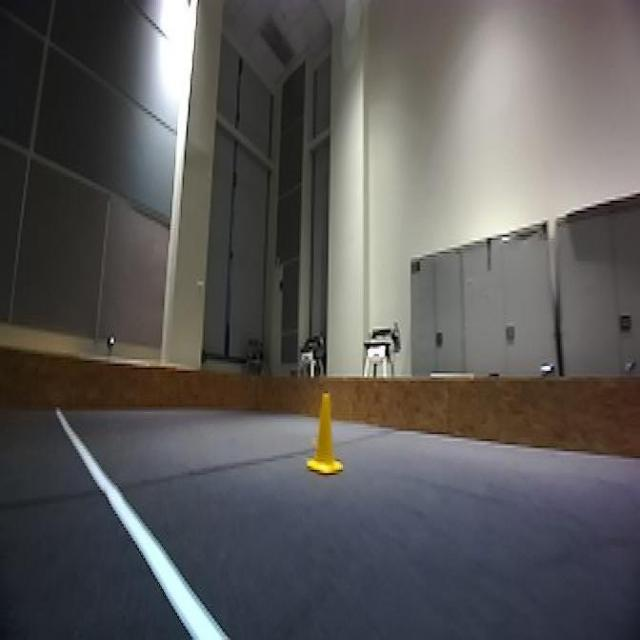frc_cone: (308, 390, 352, 480)
